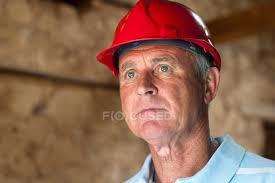Person_wearing_helmet: (91, 0, 234, 92)
